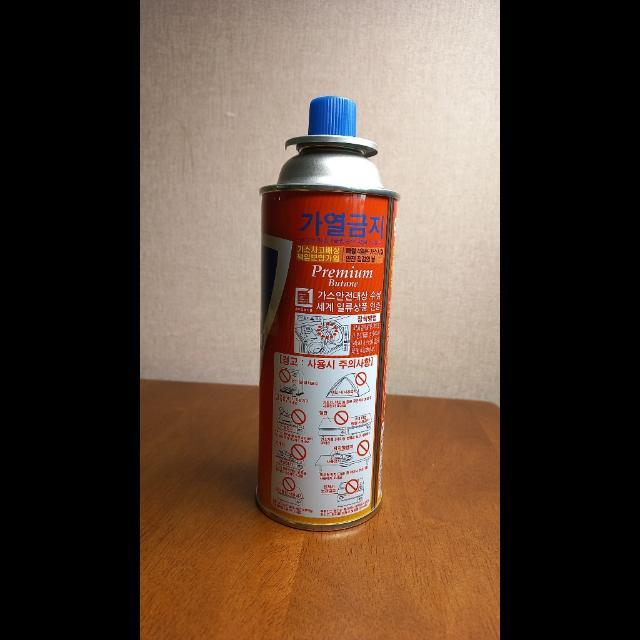chemical_spray_can: (243, 88, 411, 552)
